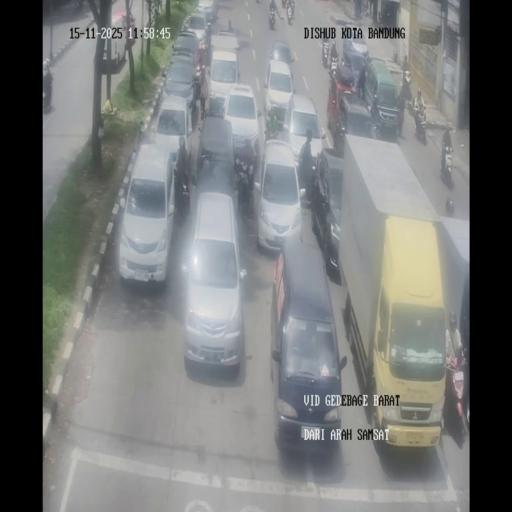3: (337, 136, 463, 446)
car: (270, 239, 342, 453), (182, 190, 246, 370), (118, 144, 176, 286), (315, 148, 344, 278), (284, 93, 324, 180), (195, 114, 236, 188), (336, 92, 375, 152), (208, 48, 241, 117), (162, 56, 198, 117), (264, 60, 295, 130), (102, 6, 136, 68), (342, 38, 370, 79), (183, 11, 210, 47), (269, 39, 294, 66), (200, 0, 218, 22)
truck: (444, 347, 466, 435), (234, 157, 254, 212), (174, 170, 190, 229), (440, 138, 454, 185), (305, 163, 320, 205), (396, 92, 406, 136), (194, 59, 204, 100), (418, 110, 428, 144), (42, 80, 52, 114), (401, 57, 410, 86), (329, 51, 339, 77), (219, 20, 235, 34), (321, 41, 329, 67), (268, 5, 275, 30), (286, 4, 294, 25), (152, 0, 161, 18), (412, 107, 418, 133), (126, 7, 135, 23), (73, 0, 83, 11), (362, 0, 368, 17), (282, 0, 288, 9), (378, 10, 382, 23)
